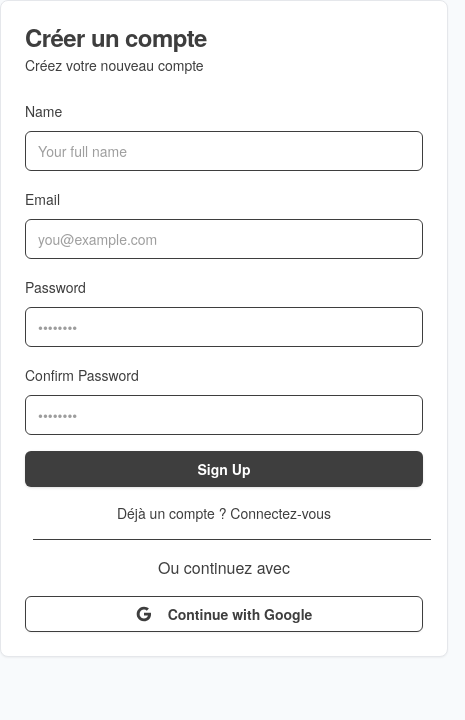
Test case: SignUpForm Component › Form Submission › should show generic error message when signup fails without specific message
Type "John Doe" into the field labelled "Name". click: (224, 151)
box: top-left (25, 131), bottom-right (423, 171)
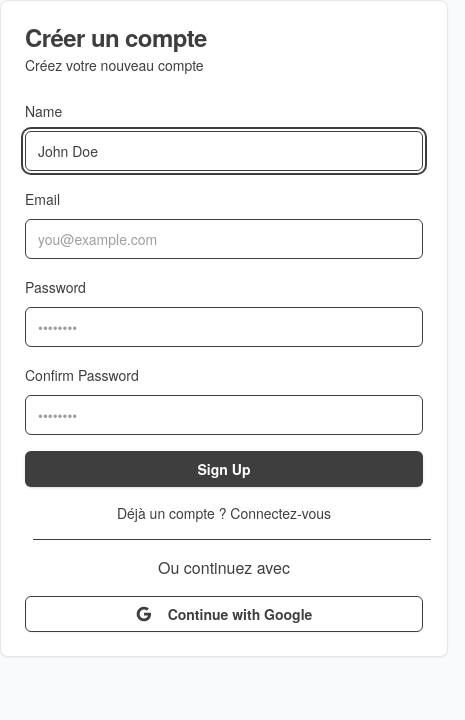
Type "john@example.com" into the field labelled "Email". click: (224, 239)
box: top-left (25, 219), bottom-right (423, 259)
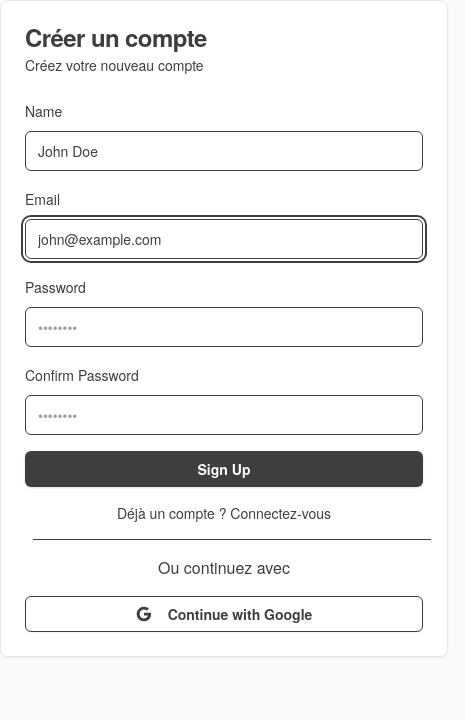
Type "Password123" into the password field labelled "Password". click: (224, 327)
box: top-left (25, 307), bottom-right (423, 347)
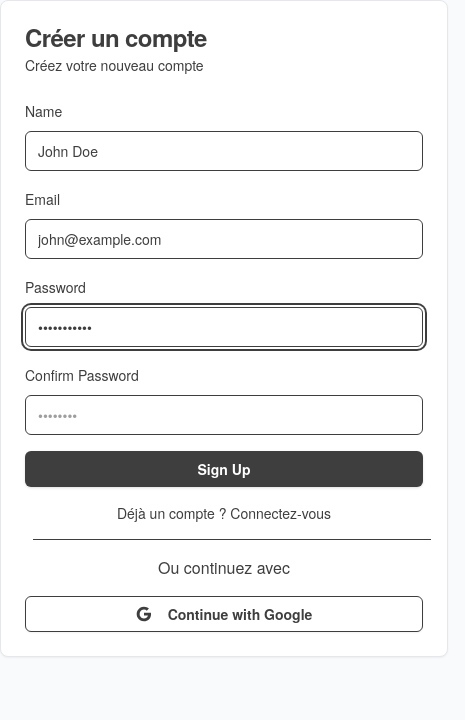
Type "Password123" into the password field labelled "Confirm Password". click: (224, 415)
box: top-left (25, 395), bottom-right (423, 435)
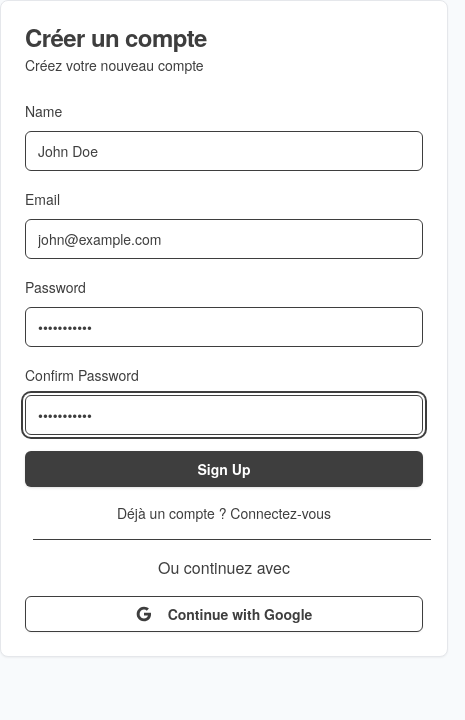
Click the button "Sign Up". click: (224, 469)
box: top-left (25, 451), bottom-right (423, 487)
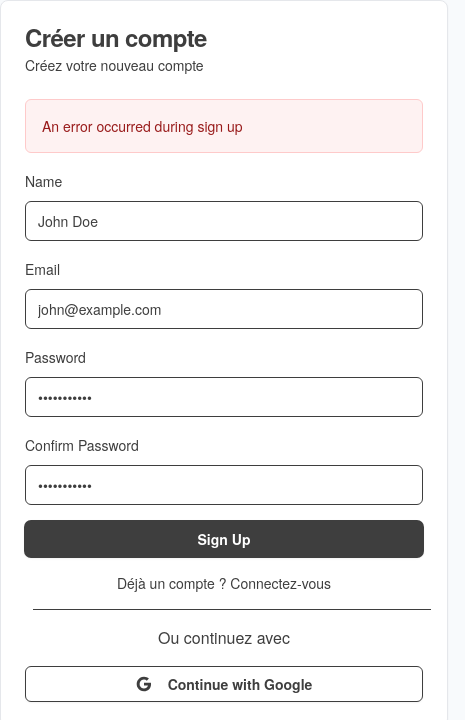
expect the text "An error occurred during sign up" is shown: met, box top-left (25, 99), bottom-right (423, 153)
